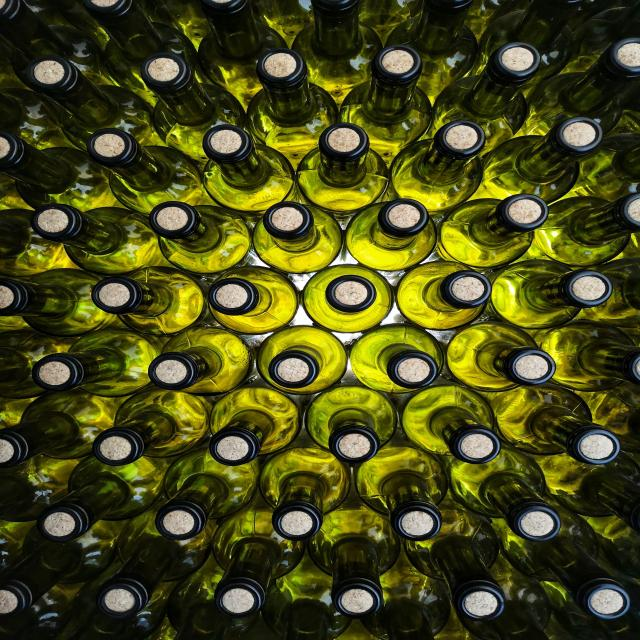Bottle: (493, 509, 629, 622), (95, 508, 214, 618), (27, 56, 161, 150), (430, 43, 540, 152), (406, 499, 504, 621), (84, 0, 197, 104), (0, 522, 122, 618), (141, 53, 245, 163), (522, 38, 639, 135), (37, 456, 168, 541), (309, 497, 401, 618), (447, 444, 560, 541), (476, 117, 602, 203), (248, 49, 339, 168), (212, 502, 305, 617), (341, 46, 431, 164), (87, 129, 211, 213), (489, 385, 620, 464), (472, 0, 581, 90), (31, 205, 167, 275), (156, 447, 259, 539), (292, 0, 381, 106), (0, 0, 112, 84), (56, 560, 175, 639), (199, 0, 286, 108), (0, 390, 119, 468), (387, 0, 477, 101), (150, 555, 258, 639), (460, 554, 566, 639), (93, 389, 210, 466), (0, 132, 118, 208), (32, 328, 161, 397), (355, 446, 447, 540), (390, 121, 485, 211), (203, 125, 295, 217), (297, 124, 388, 216), (260, 447, 350, 540), (491, 260, 612, 329), (437, 195, 549, 268), (540, 557, 639, 639), (91, 267, 206, 335), (539, 453, 639, 531), (402, 384, 500, 463), (534, 194, 639, 267), (363, 551, 450, 639), (0, 269, 113, 336), (261, 554, 350, 639), (447, 322, 556, 391), (149, 201, 250, 274), (537, 321, 639, 391), (210, 387, 300, 465), (306, 386, 396, 464), (149, 327, 252, 393), (253, 201, 342, 273), (397, 261, 491, 329), (346, 199, 436, 270), (350, 325, 443, 392), (208, 266, 298, 334), (303, 265, 393, 332), (257, 326, 347, 393), (565, 0, 639, 72), (0, 328, 75, 398), (0, 455, 77, 521), (0, 209, 73, 277), (0, 583, 82, 639), (0, 87, 71, 149), (573, 135, 639, 201), (579, 383, 639, 453), (586, 516, 639, 579), (153, 0, 209, 48), (253, 0, 311, 46), (360, 0, 422, 43), (57, 0, 108, 49), (466, 0, 529, 37), (568, 0, 633, 35), (0, 521, 32, 570), (0, 38, 28, 88), (439, 609, 477, 639), (25, 0, 70, 25), (0, 397, 34, 428), (638, 216, 639, 231)
